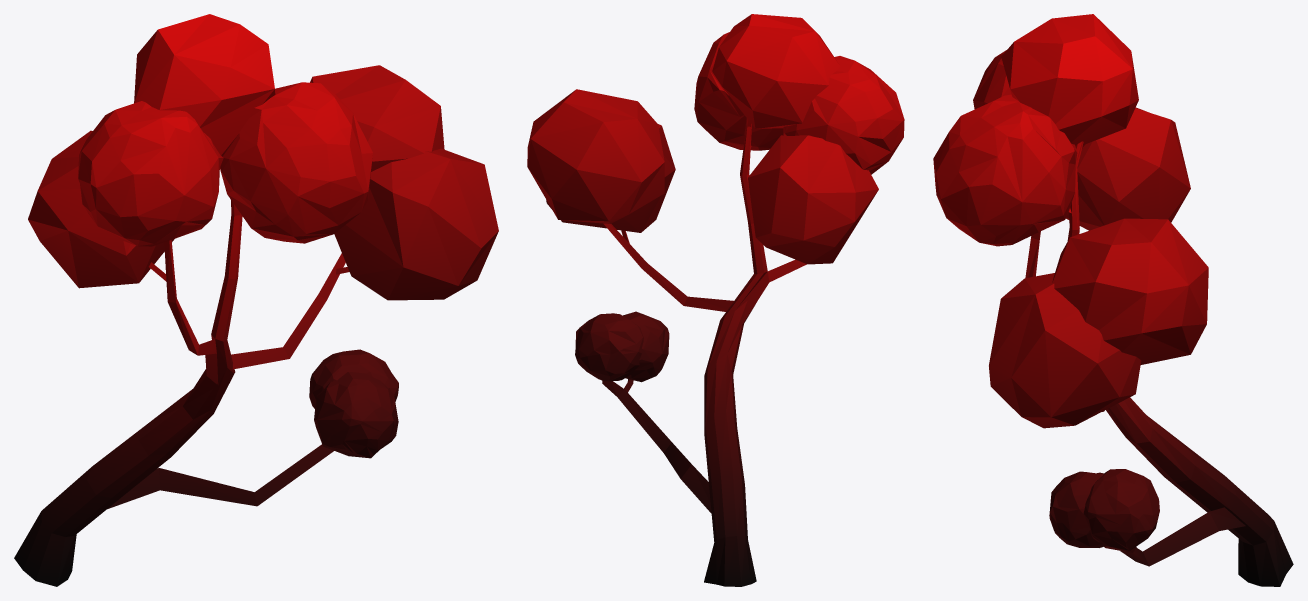
Rendered from TreeBent08.fbx.
The picture shows the model from 3 angles, left to right: view 1: azimuth 30°, elevation 25°; view 2: azimuth 150°, elevation 25°; view 3: azimuth 270°, elevation 25°; orthographic projection. The views are drawn at different scales.
Visible parts, largest first — view 1: TreeBent08_LOD0; view 2: TreeBent08_LOD0; view 3: TreeBent08_LOD0.
Part boxes in pixels (x1=…): TreeBent08_LOD0: x1=14, y1=14, x2=498, y2=586; TreeBent08_LOD0: x1=527, y1=14, x2=904, y2=586; TreeBent08_LOD0: x1=933, y1=14, x2=1293, y2=586.
Size of what is drawn, in the model's own units: 1052 by 1483 by 844.
